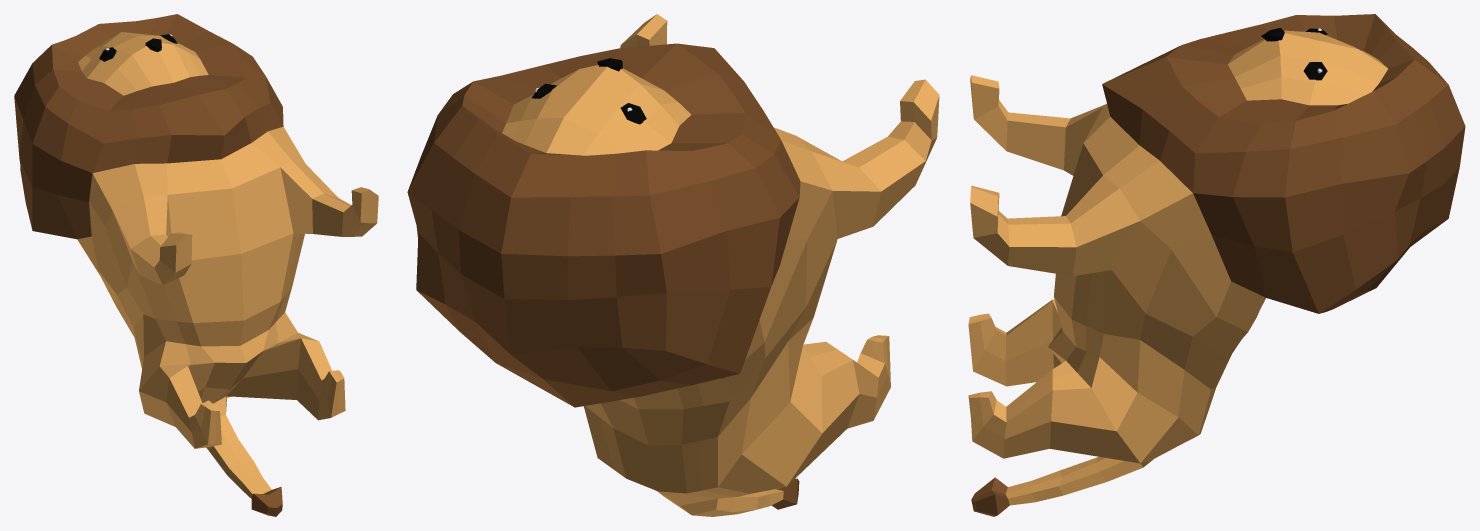
Rendered from lion.fbx.
3 renders of one model, left to right at view 1: azimuth 30°, elevation 25°; view 2: azimuth 150°, elevation 25°; view 3: azimuth 270°, elevation 25°, orthographic. The views are drawn at different scales.
Parts seen in each view (by area): view 1: lion; view 2: lion; view 3: lion.
Part boxes in pixels (bbox=[...]): lion: bbox=[14, 14, 378, 516]; lion: bbox=[407, 14, 939, 516]; lion: bbox=[968, 14, 1465, 516].
Bounding box in the file's own units: 236 × 374 × 345.
